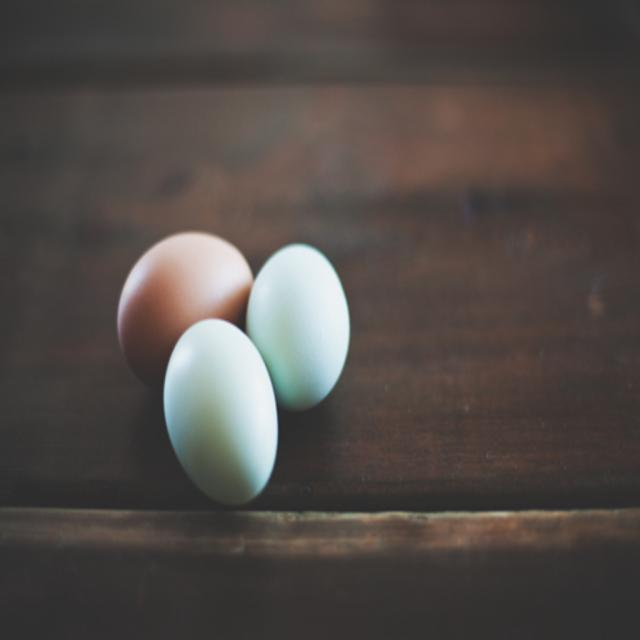Egg: (157, 323, 276, 511), (116, 231, 255, 386), (242, 244, 351, 419)
